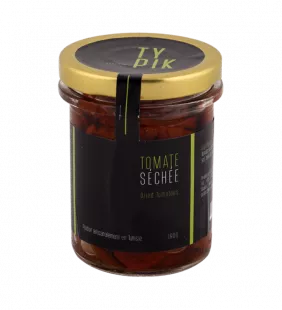TYPIK: (52, 20, 235, 284)
